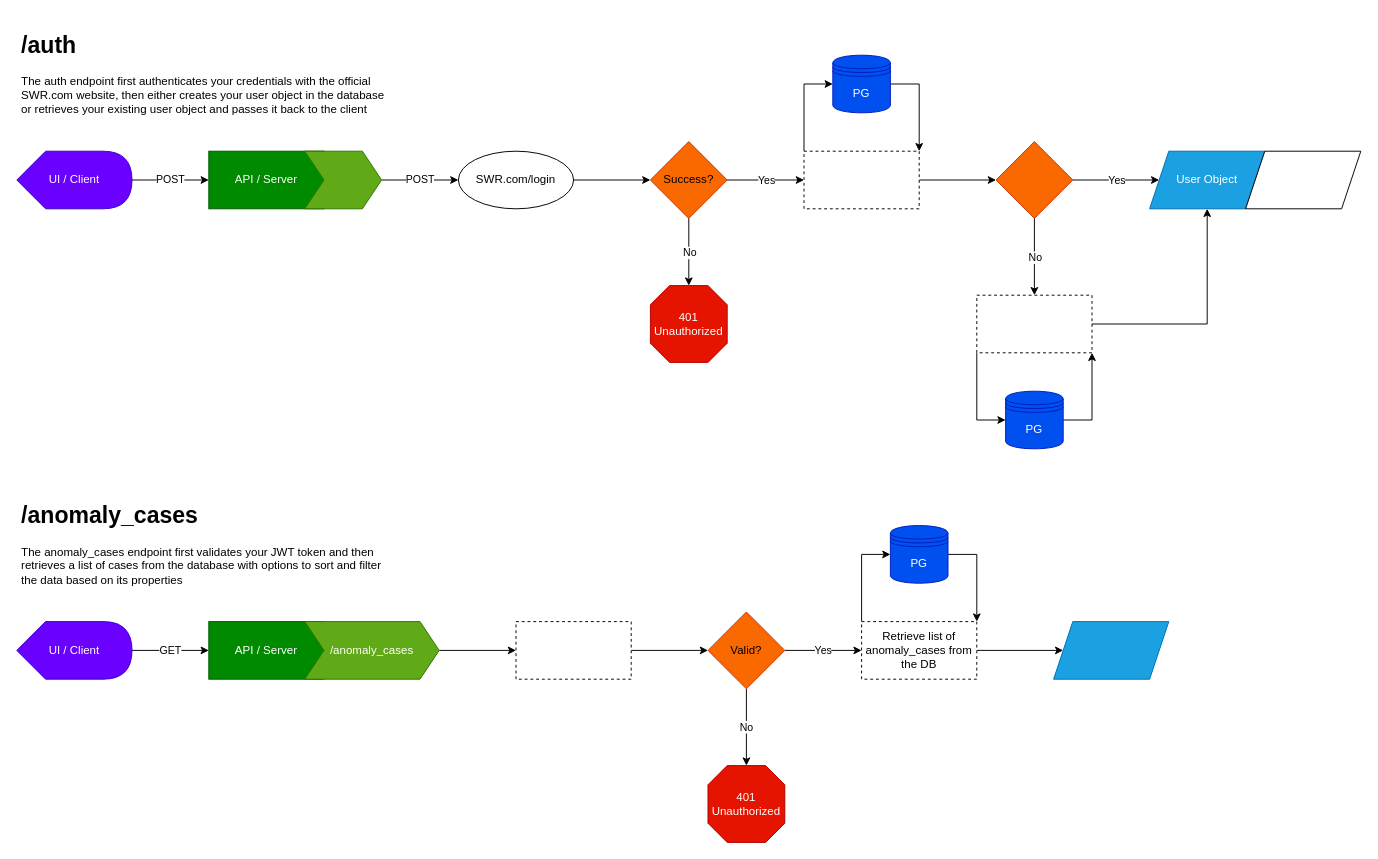
Image size: 1378x859. Some labels were removed from this diagram. Each missing label, with the box of its shape:
& JWT: (1245, 150, 1361, 209)
/auth: (304, 150, 382, 209)
Check DB if user exists with SWR insider email: (803, 150, 919, 209)
Create new user record and save to database: (976, 294, 1092, 353)
List of Anomaly Cases: (1053, 621, 1169, 679)
User Exists?: (995, 141, 1073, 218)
Validate JWT: (515, 621, 631, 679)
